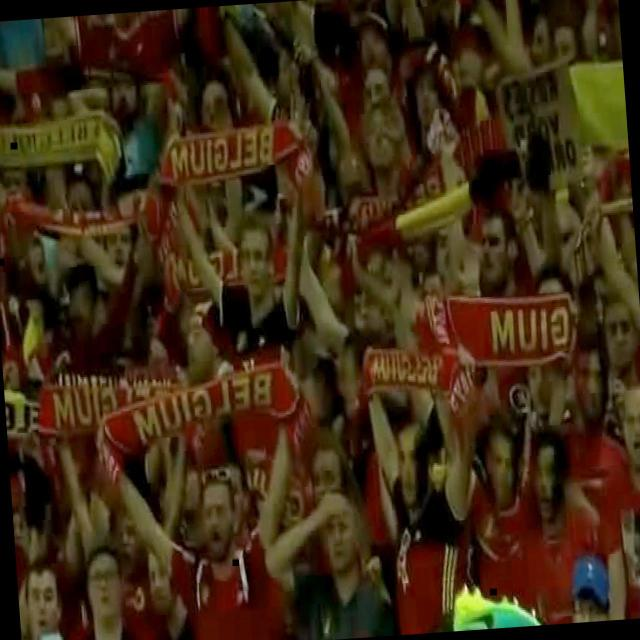player-white: (125, 583, 544, 640)
